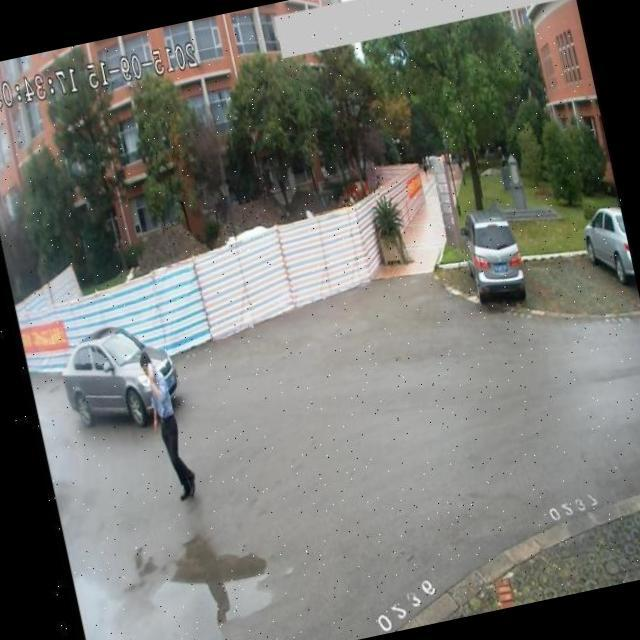person: (136, 342, 206, 516)
